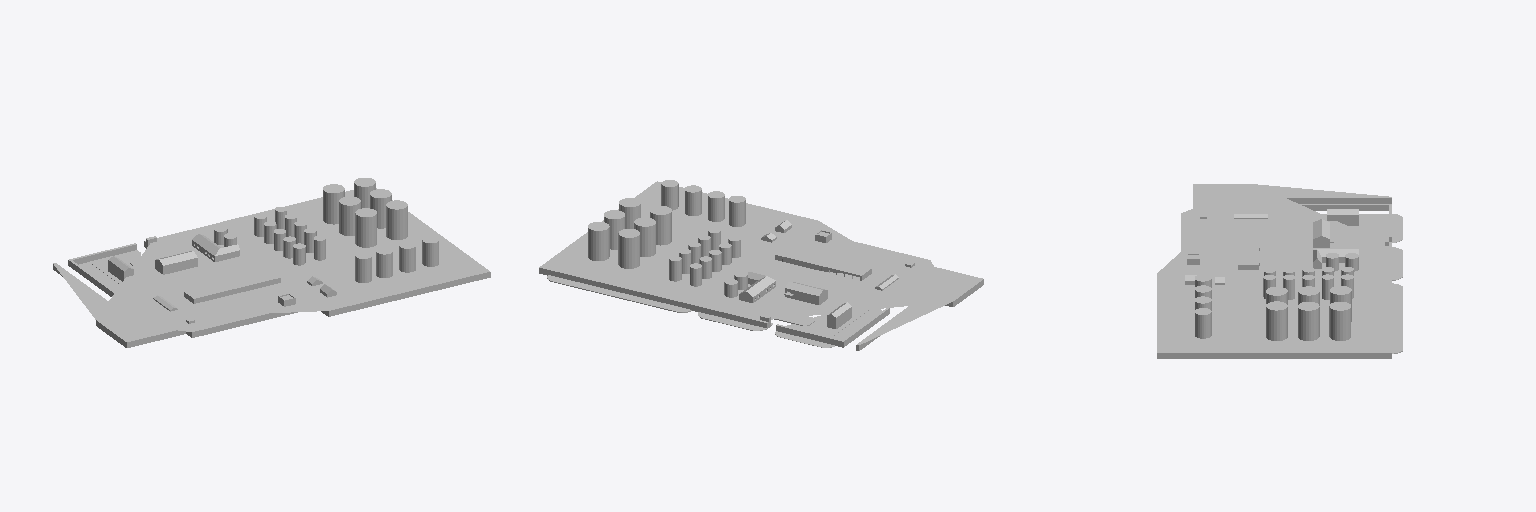
File: factory.obj
3 views of the same model, side by side, from view 1: azimuth 30°, elevation 25°; view 2: azimuth 150°, elevation 25°; view 3: azimuth 270°, elevation 25° (orthographic).
Parts seen in each view (by area): view 1: Mesh4 Model, Mesh2 Model, Mesh1 Model, Mesh3 Model, Mesh8 Model, Mesh5 Model; view 2: Mesh4 Model, Mesh2 Model, Mesh1 Model, Mesh3 Model, Mesh8 Model, Mesh5 Model; view 3: Mesh4 Model, Mesh2 Model, Mesh1 Model, Mesh3 Model, Mesh8 Model.
Boxes of the visible parts, box(x1,y1,x2,y2) form: Mesh4 Model: box(53, 188, 490, 347); Mesh2 Model: box(323, 178, 407, 247); Mesh1 Model: box(254, 207, 325, 265); Mesh3 Model: box(307, 236, 438, 297); Mesh8 Model: box(184, 270, 280, 303); Mesh5 Model: box(155, 251, 197, 274); Mesh4 Model: box(539, 181, 983, 350); Mesh2 Model: box(588, 198, 671, 268); Mesh1 Model: box(669, 228, 740, 286); Mesh3 Model: box(661, 180, 791, 242); Mesh8 Model: box(775, 247, 871, 280); Mesh5 Model: box(784, 282, 827, 314); Mesh4 Model: box(1157, 184, 1402, 358); Mesh2 Model: box(1266, 286, 1351, 340); Mesh1 Model: box(1263, 267, 1353, 299); Mesh3 Model: box(1185, 274, 1224, 338); Mesh8 Model: box(1238, 223, 1259, 269).
Size of the model in its own units: 620 by 63.67 by 384.